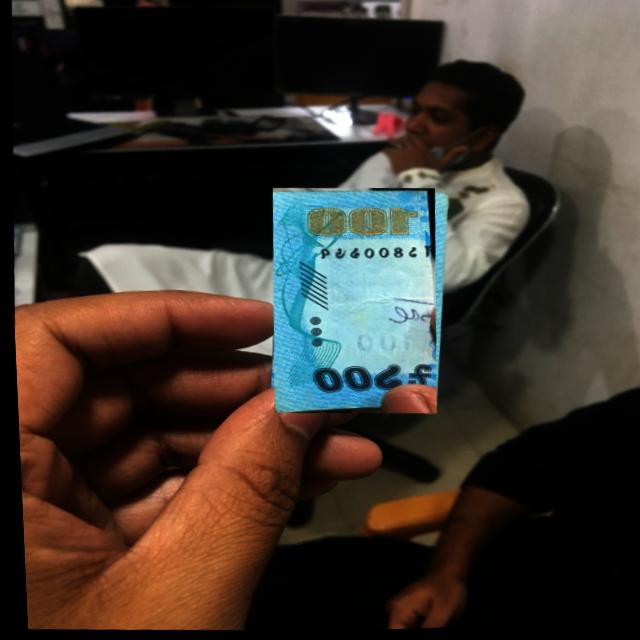Taka: (262, 185, 440, 420)
